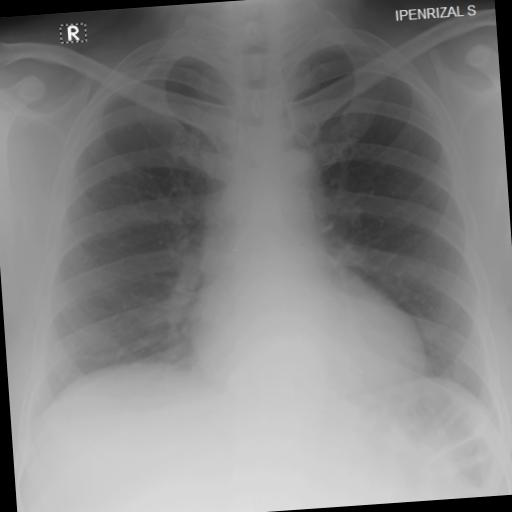kardiomegali: (0, 2, 509, 475)
